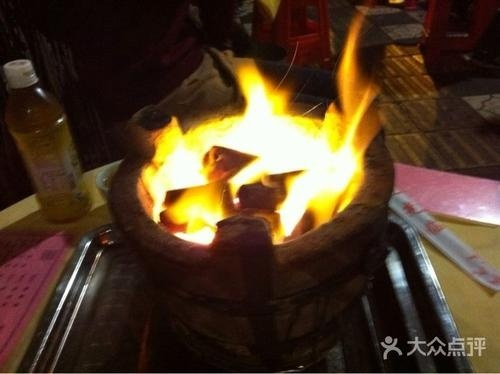fire: (141, 14, 381, 245)
